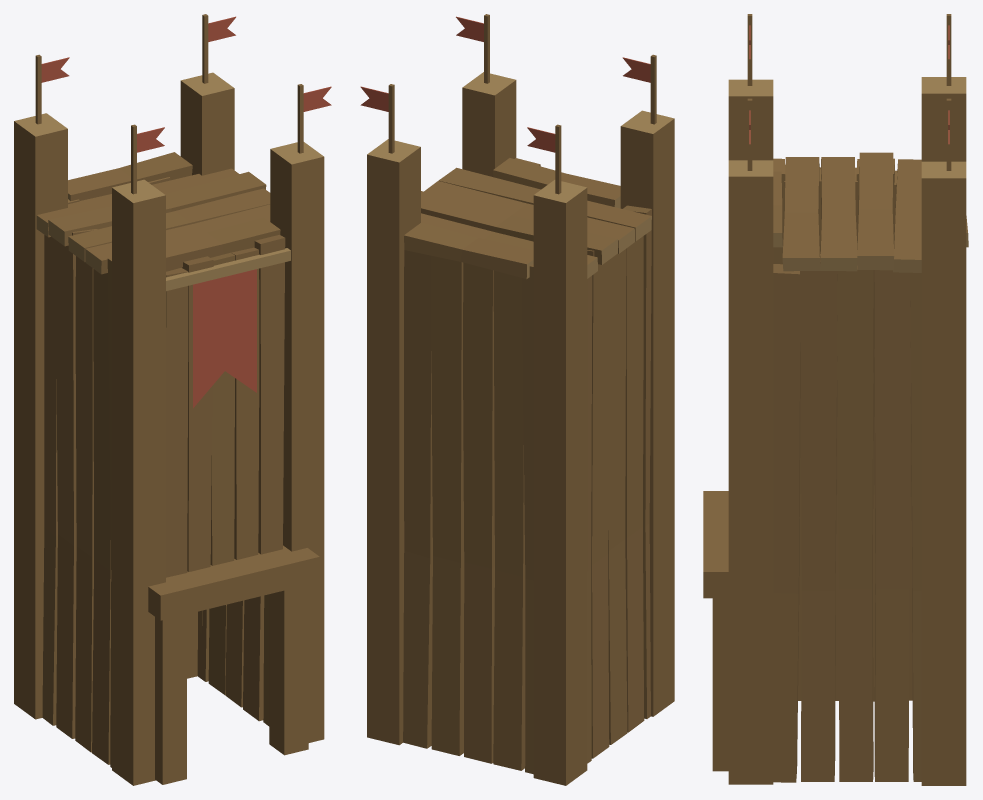
The model's file is Watch Tower.glb.
3 renders of one model, left to right at view 1: azimuth 30°, elevation 25°; view 2: azimuth 150°, elevation 25°; view 3: azimuth 270°, elevation 25°, orthographic. The views are drawn at different scales.
Parts seen in each view (by area): view 1: Watch Tower; view 2: Watch Tower; view 3: Watch Tower.
Part boxes in pixels (x1=…): Watch Tower: x1=14, y1=14, x2=331, y2=785; Watch Tower: x1=360, y1=14, x2=674, y2=785; Watch Tower: x1=703, y1=14, x2=968, y2=785.
Bounding box in the file's own units: 0.505 × 1.46 × 0.5193.
